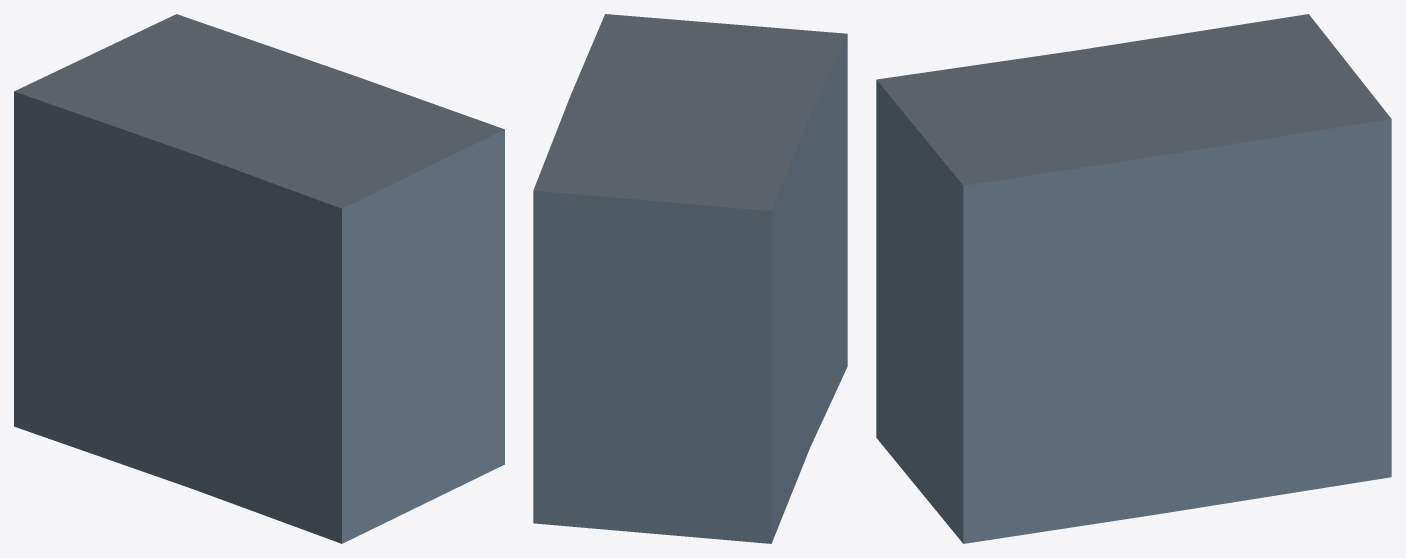
The picture shows the model from 3 angles, left to right: view 1: azimuth 30°, elevation 25°; view 2: azimuth 150°, elevation 25°; view 3: azimuth 270°, elevation 25°; orthographic projection. The views are drawn at different scales.
Visible parts, largest first — view 1: HP-w1197628883; view 2: HP-w1197628883; view 3: HP-w1197628883.
Part boxes in pixels (box(x1,y1,x2,y2)): HP-w1197628883: box(14, 14, 504, 543); HP-w1197628883: box(533, 14, 847, 543); HP-w1197628883: box(876, 14, 1391, 543).
Size of the model in its own units: 54.67 by 53.2 by 69.33.
